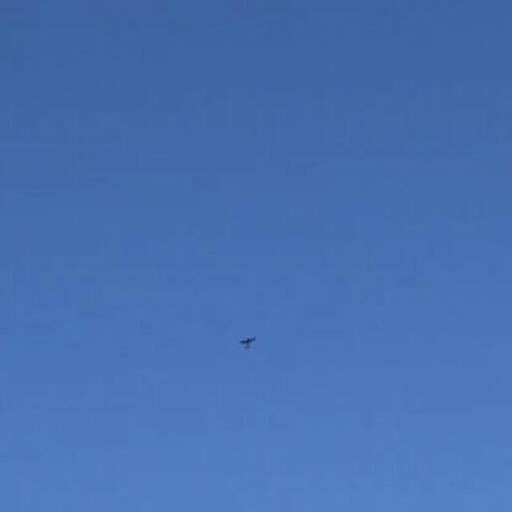aircraft: (239, 336, 256, 348)
